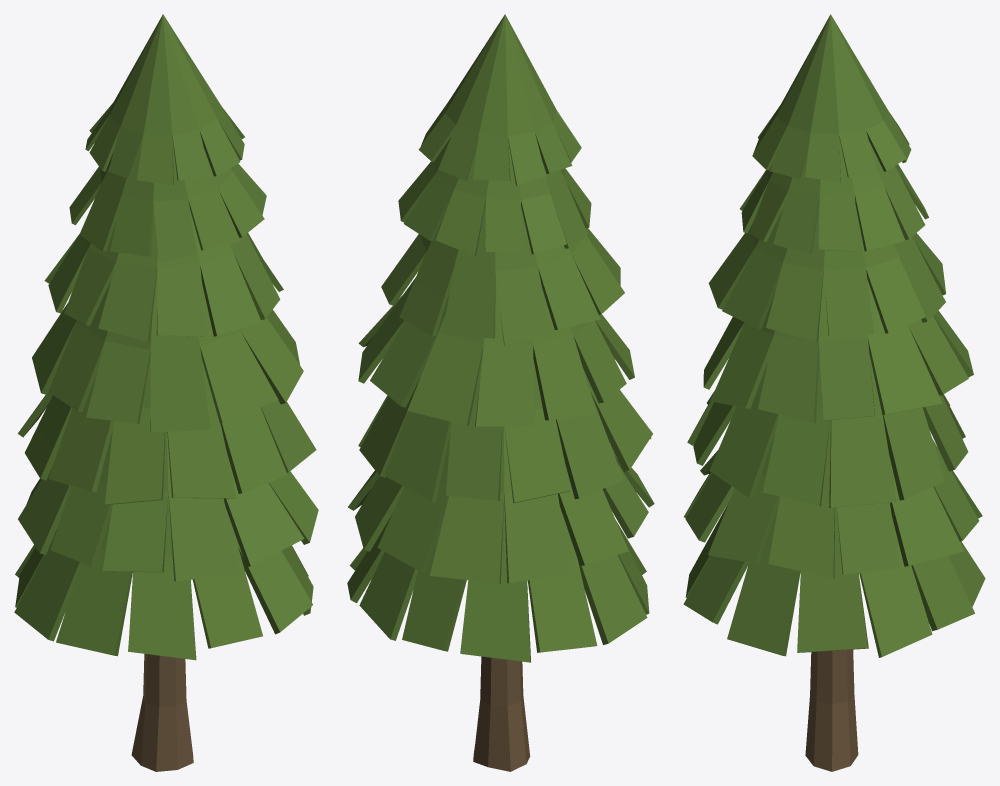
Rendered from Tree_18.fbx.
The picture shows the model from 3 angles, left to right: view 1: azimuth 30°, elevation 25°; view 2: azimuth 150°, elevation 25°; view 3: azimuth 270°, elevation 25°; orthographic projection.
Parts seen in each view (by area): view 1: Tree_18; view 2: Tree_18; view 3: Tree_18.
Boxes of the visible parts, left/top/right/bottom form: Tree_18: left=14, top=14, right=318, bottom=771; Tree_18: left=347, top=14, right=654, bottom=771; Tree_18: left=683, top=14, right=985, bottom=771.
Size of the model in its own units: 165 by 444 by 164.
